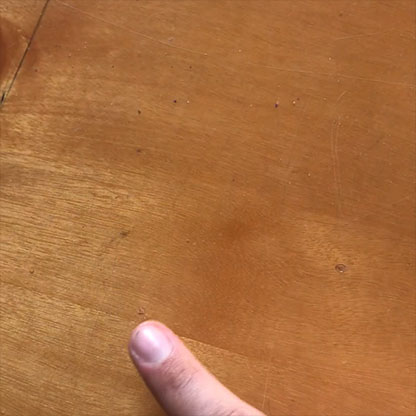fingertip: (119, 305, 189, 383)
